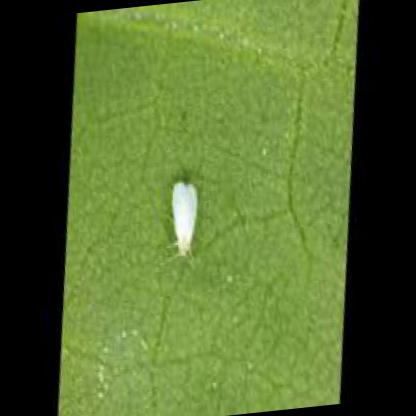whitefly: (171, 185, 196, 257)
